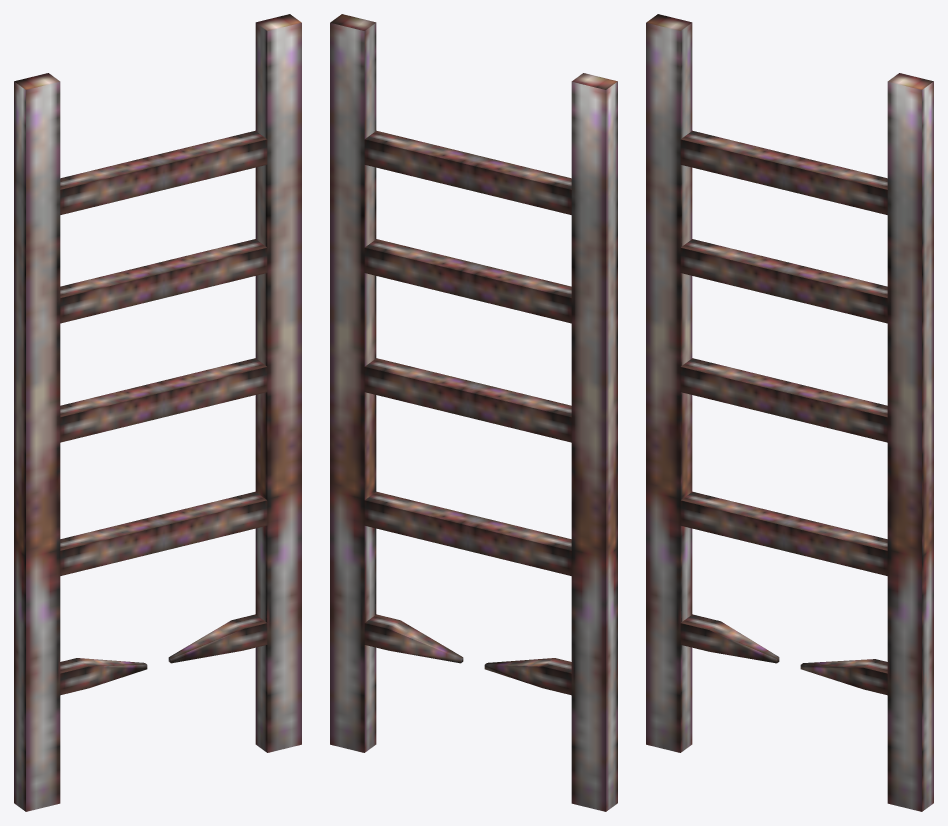
Rendered from Poly_SF_Outside_B_Metal_Ladder_01.obj.
3 renders of one model, left to right at view 1: azimuth 30°, elevation 25°; view 2: azimuth 150°, elevation 25°; view 3: azimuth 330°, elevation 25°, orthographic.
Parts seen in each view (by area): view 1: Cube.001; view 2: Cube.001; view 3: Cube.001.
Boxes of the visible parts, left/top/right/bottom form: Cube.001: left=14, top=14, right=301, bottom=811; Cube.001: left=330, top=14, right=617, bottom=811; Cube.001: left=646, top=14, right=933, bottom=811.
Bounding box in the file's own units: 0.8 × 2 × 0.06.
1 material, 1 textured.
